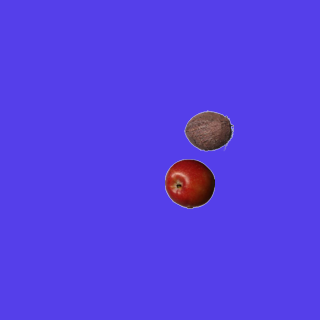Apple Braeburn: (164, 158, 214, 208)
Cocos: (183, 105, 233, 155)
